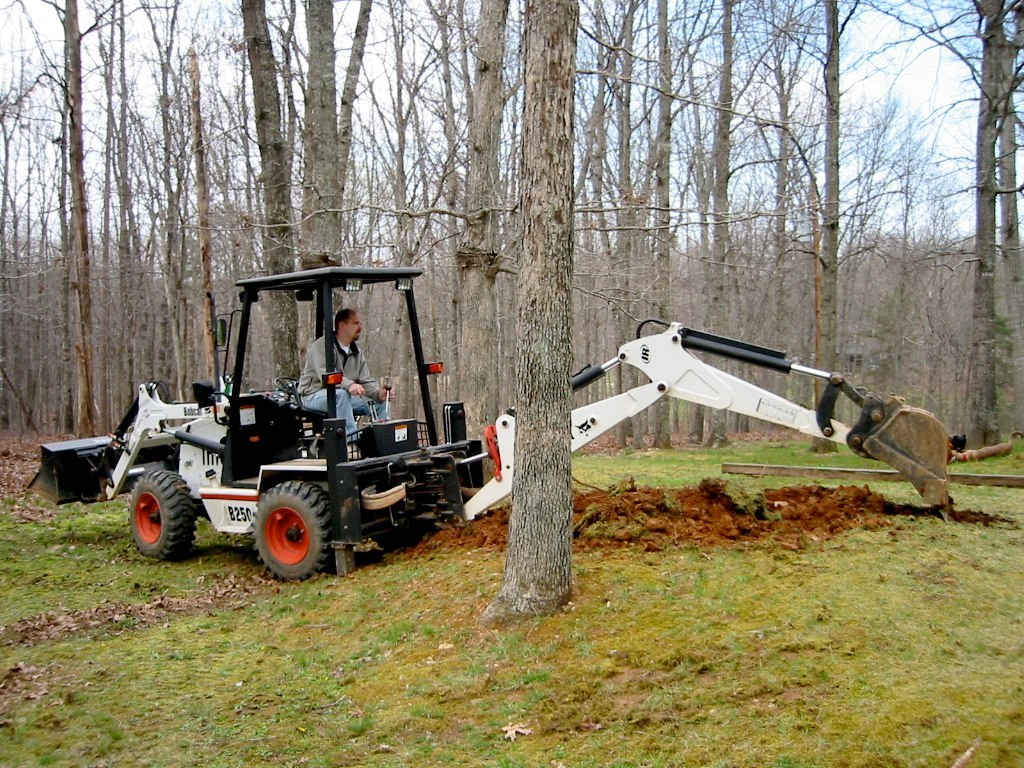Tree: (581, 0, 810, 451), (865, 0, 1020, 454), (496, 0, 584, 629), (375, 0, 469, 455), (103, 0, 190, 437), (232, 0, 309, 395), (0, 0, 65, 450), (453, 0, 512, 477), (305, 0, 376, 271), (986, 3, 1022, 451), (188, 27, 227, 399), (65, 0, 96, 441), (816, 0, 846, 422)
